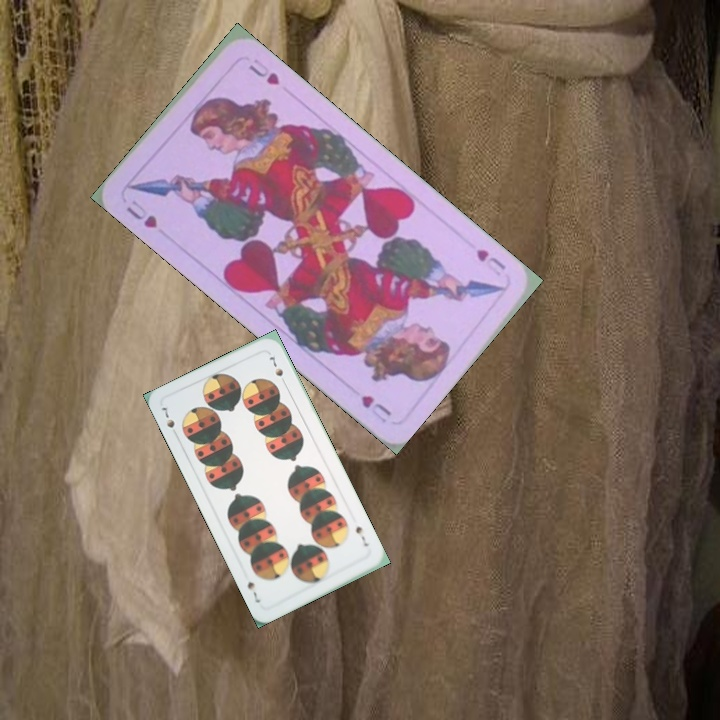HU: (122, 195, 160, 231), (472, 244, 509, 279)
S7: (158, 403, 177, 431), (352, 522, 371, 549)
